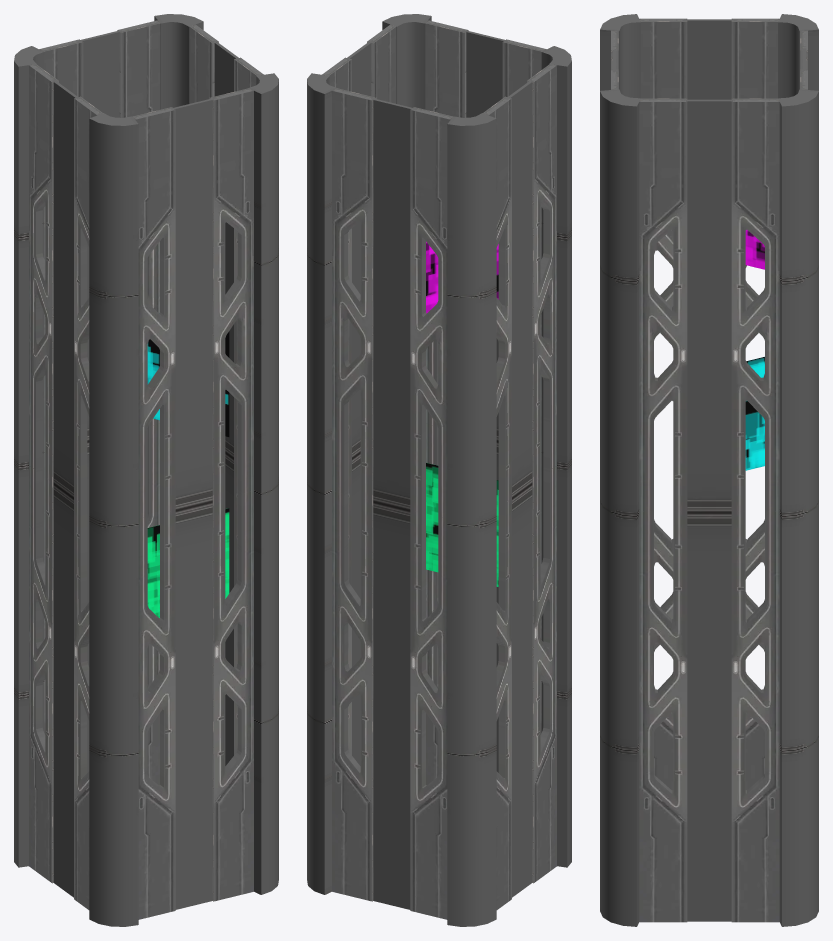
File: sc-ad-pylon.glb
3 views of the same model, side by side, from view 1: azimuth 30°, elevation 25°; view 2: azimuth 150°, elevation 25°; view 3: azimuth 270°, elevation 25° (orthographic). The views are drawn at different scales.
Parts seen in each view (by area): view 1: sc-ad-pylon; view 2: sc-ad-pylon; view 3: sc-ad-pylon.
Part boxes in pixels (x1=…): sc-ad-pylon: x1=14, y1=14, x2=278, y2=926; sc-ad-pylon: x1=307, y1=14, x2=571, y2=926; sc-ad-pylon: x1=600, y1=14, x2=818, y2=926.
Size of the model in its own units: 4.35 by 18 by 4.35.
Materials: 5 (5 with a texture image).
